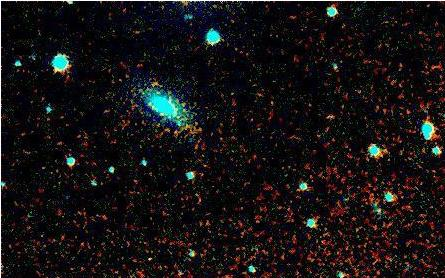star: (135, 244, 165, 274)
